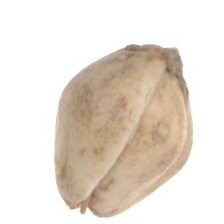L1: (140, 41, 184, 83), (63, 196, 106, 219)
L2: (53, 42, 193, 218)
